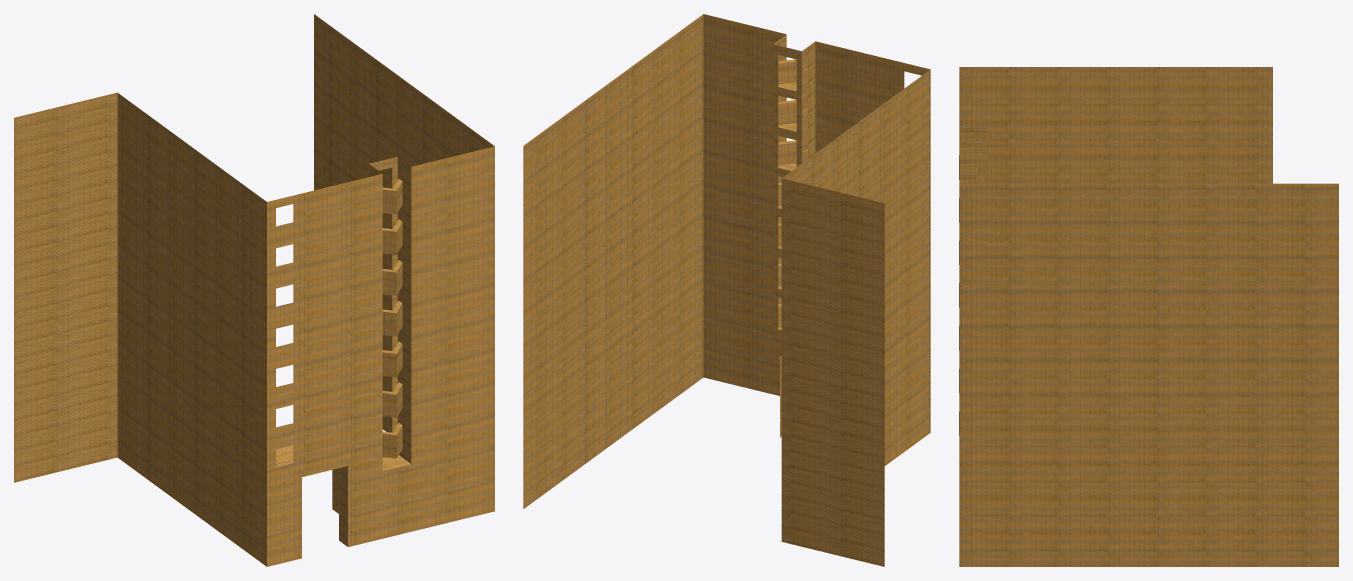
The model's file is oic (2).fbx.
The picture shows the model from 3 angles, left to right: view 1: azimuth 30°, elevation 25°; view 2: azimuth 150°, elevation 25°; view 3: azimuth 270°, elevation 25°; orthographic projection. The views are drawn at different scales.
Parts seen in each view (by area): view 1: oic; view 2: oic; view 3: oic.
Part boxes in pixels (box(x1,y1,x2,y2)): oic: box(14, 14, 494, 566); oic: box(523, 14, 930, 566); oic: box(959, 67, 1338, 566).
Size of the model in its own units: 2562 by 2697 by 2422.
Materials: 2 (2 with a texture image).
